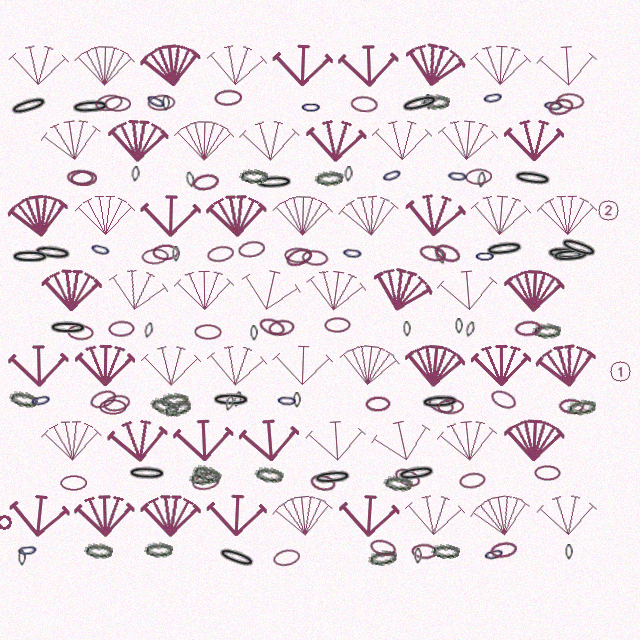chain: (557, 234, 600, 262), (215, 544, 258, 572), (8, 93, 50, 119), (399, 91, 441, 116), (512, 168, 553, 189), (396, 463, 437, 484), (32, 243, 73, 263), (484, 239, 525, 259), (550, 246, 591, 265), (312, 468, 353, 487), (488, 387, 519, 412), (392, 465, 423, 490), (161, 396, 193, 420), (70, 98, 111, 116), (545, 245, 586, 263), (191, 462, 223, 485), (284, 245, 314, 269), (432, 241, 462, 265), (257, 315, 287, 339), (88, 387, 118, 411), (426, 393, 456, 417), (420, 393, 460, 411), (149, 395, 180, 417), (254, 174, 294, 191), (127, 465, 167, 482), (368, 537, 398, 559), (367, 547, 398, 568), (10, 249, 50, 265), (48, 320, 88, 336), (211, 392, 251, 408), (94, 92, 124, 113), (8, 389, 39, 409), (566, 397, 597, 417), (188, 467, 219, 487), (418, 243, 447, 264), (272, 547, 301, 568), (191, 472, 221, 492), (143, 90, 169, 113), (547, 96, 575, 117), (309, 472, 337, 493), (191, 172, 220, 192), (237, 239, 266, 259), (206, 244, 235, 264), (102, 393, 131, 413), (489, 540, 518, 560), (379, 164, 405, 186), (254, 465, 284, 484), (267, 318, 296, 337), (458, 471, 487, 490), (314, 169, 344, 187), (159, 391, 189, 409), (383, 474, 413, 492), (88, 239, 113, 260), (556, 92, 585, 110), (350, 95, 378, 113), (301, 249, 329, 267), (147, 94, 176, 111), (421, 93, 450, 110), (532, 322, 561, 339), (84, 542, 113, 559), (144, 541, 173, 558), (29, 390, 53, 410), (482, 544, 506, 564), (214, 89, 242, 106), (66, 169, 94, 186), (141, 248, 169, 265), (284, 247, 312, 264), (514, 320, 542, 337), (239, 168, 268, 184), (431, 543, 460, 559), (465, 168, 492, 185), (67, 324, 94, 341), (108, 320, 135, 337), (437, 398, 464, 415), (558, 398, 585, 415), (411, 543, 438, 560), (481, 88, 505, 107), (194, 324, 222, 340), (99, 399, 127, 415), (104, 96, 131, 112), (70, 170, 97, 186), (152, 244, 179, 260), (324, 317, 351, 333), (60, 475, 87, 491), (534, 465, 561, 481), (365, 396, 391, 412), (446, 167, 469, 185), (341, 244, 364, 262), (16, 541, 39, 559), (542, 97, 565, 114), (276, 392, 298, 409), (300, 99, 322, 115), (474, 248, 496, 264), (434, 248, 447, 265), (464, 321, 476, 338), (185, 171, 196, 188), (143, 322, 154, 339), (232, 391, 243, 408), (224, 395, 235, 412), (424, 94, 433, 110), (131, 166, 140, 182), (344, 166, 353, 182), (477, 172, 486, 188), (162, 95, 170, 111), (172, 246, 180, 262), (250, 325, 258, 341), (403, 321, 411, 337), (455, 318, 463, 334), (293, 392, 301, 408), (18, 550, 26, 566), (414, 548, 422, 564), (565, 544, 573, 560)
fan: (367, 261, 436, 320), (236, 262, 304, 319), (368, 413, 436, 469), (401, 38, 468, 93), (104, 263, 171, 318), (468, 489, 534, 543), (39, 114, 104, 167), (6, 190, 71, 242), (303, 265, 368, 317), (534, 340, 599, 392), (139, 40, 203, 91), (403, 190, 467, 241), (337, 340, 401, 391), (337, 191, 401, 241), (106, 416, 170, 466), (7, 491, 71, 541), (271, 491, 335, 541), (205, 341, 268, 391), (403, 341, 466, 391), (436, 416, 499, 466), (205, 41, 268, 90), (436, 116, 499, 165), (469, 191, 532, 240), (436, 266, 499, 315), (238, 416, 301, 465), (403, 491, 466, 540), (536, 42, 598, 90), (107, 117, 169, 165), (305, 117, 367, 165), (503, 267, 565, 315), (305, 417, 367, 465), (338, 492, 400, 540), (503, 417, 565, 464), (536, 492, 598, 539), (8, 42, 69, 89), (272, 42, 333, 89), (470, 42, 531, 89), (41, 267, 102, 314), (272, 342, 333, 389), (173, 417, 234, 464), (206, 492, 267, 539), (74, 43, 135, 89), (338, 43, 399, 89), (239, 118, 300, 164), (140, 193, 201, 239), (206, 193, 267, 239), (272, 193, 333, 239), (8, 343, 69, 389), (41, 418, 102, 464), (74, 493, 135, 539), (140, 493, 201, 539), (174, 118, 234, 164), (141, 343, 201, 389), (372, 118, 432, 163), (504, 118, 564, 163), (75, 193, 135, 238), (537, 193, 597, 238), (174, 268, 234, 313), (75, 343, 135, 388), (471, 343, 531, 388)
noise: (608, 359, 633, 384), (596, 198, 620, 222), (0, 513, 14, 532)
